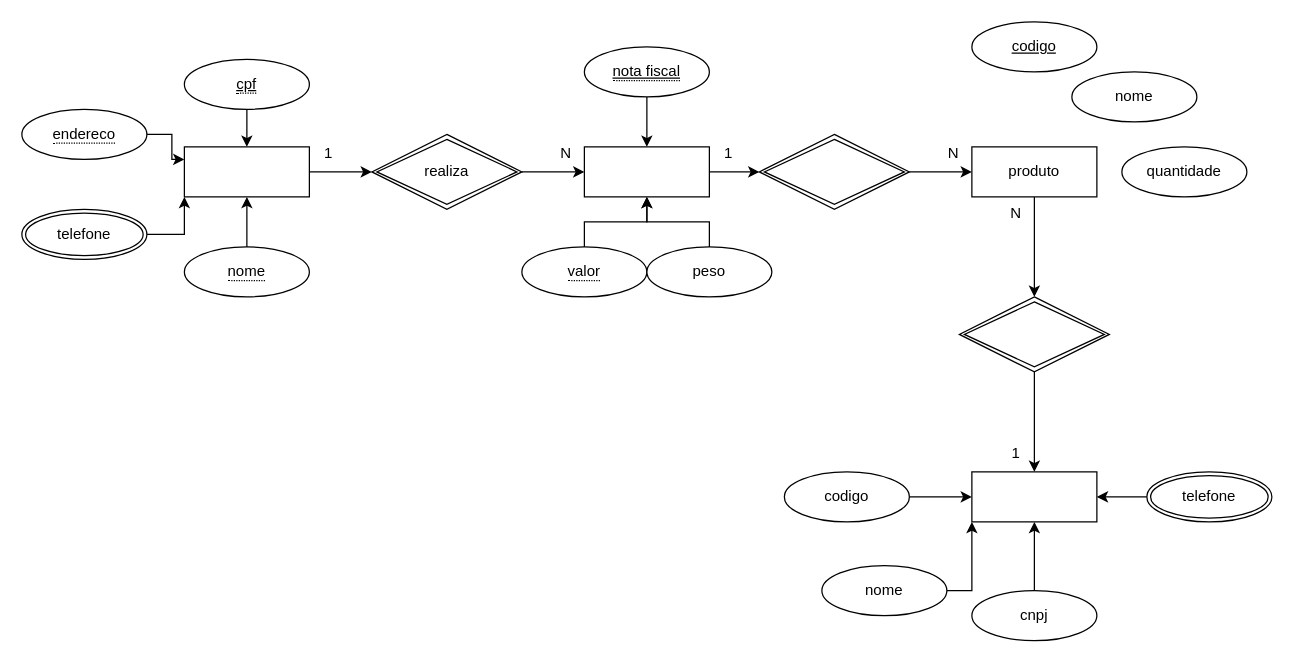
Some shapes in this 1294 by 663 pixel diagram are drawn without their labels. The shapes that lost their labels are listed below. From the top down, each one's centre as x and y in pixels, then its label:
At point (246, 171): "clliente".
At point (646, 171): "compra".
At point (833, 171): "conteudo".
At point (1033, 334): "fornecedor".
At point (1034, 496): "fabricante".
